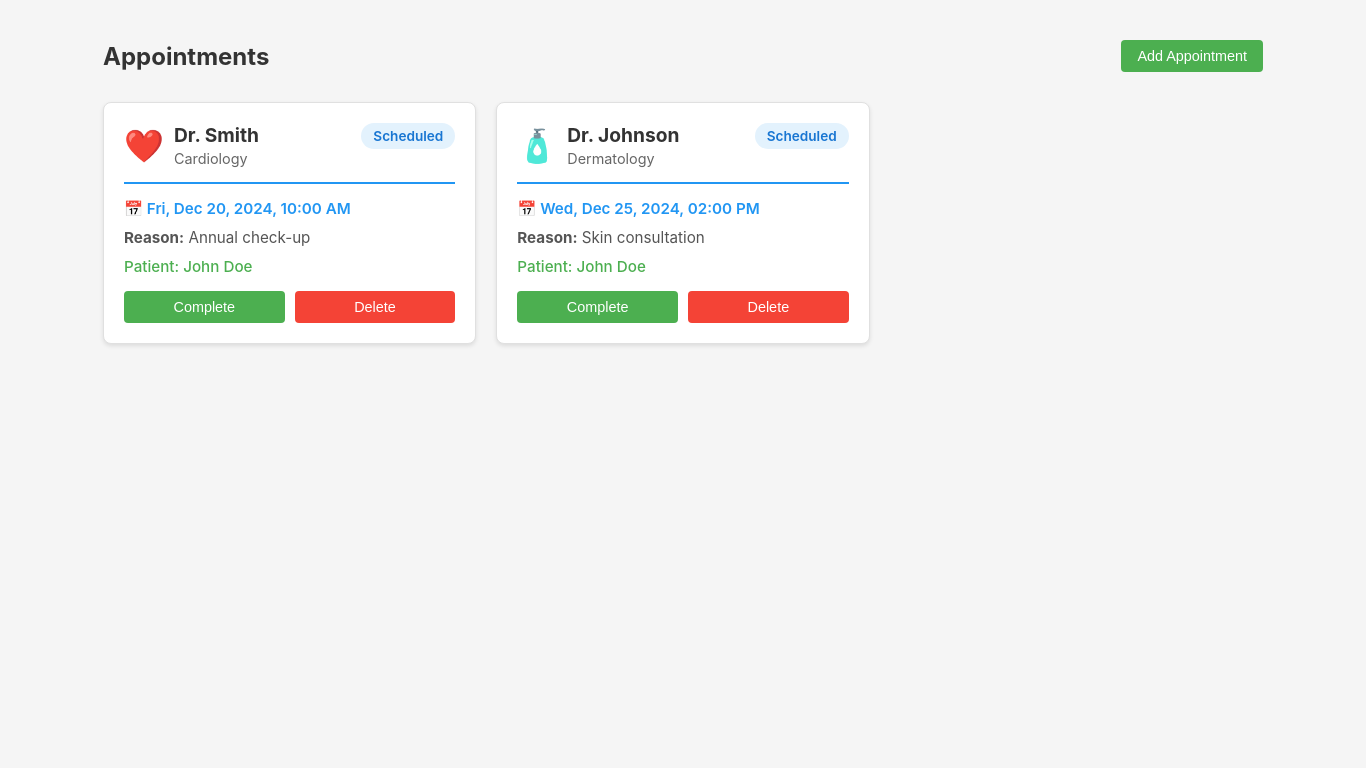
AppointmentsPage Component › should cancel form and return to list
expect the heading "Dr. Smith" is shown: met, box [174, 123, 259, 147]
Click the button "Add Appointment" at coordinates (1192, 56), box [1121, 40, 1263, 72]
(page scrolled)
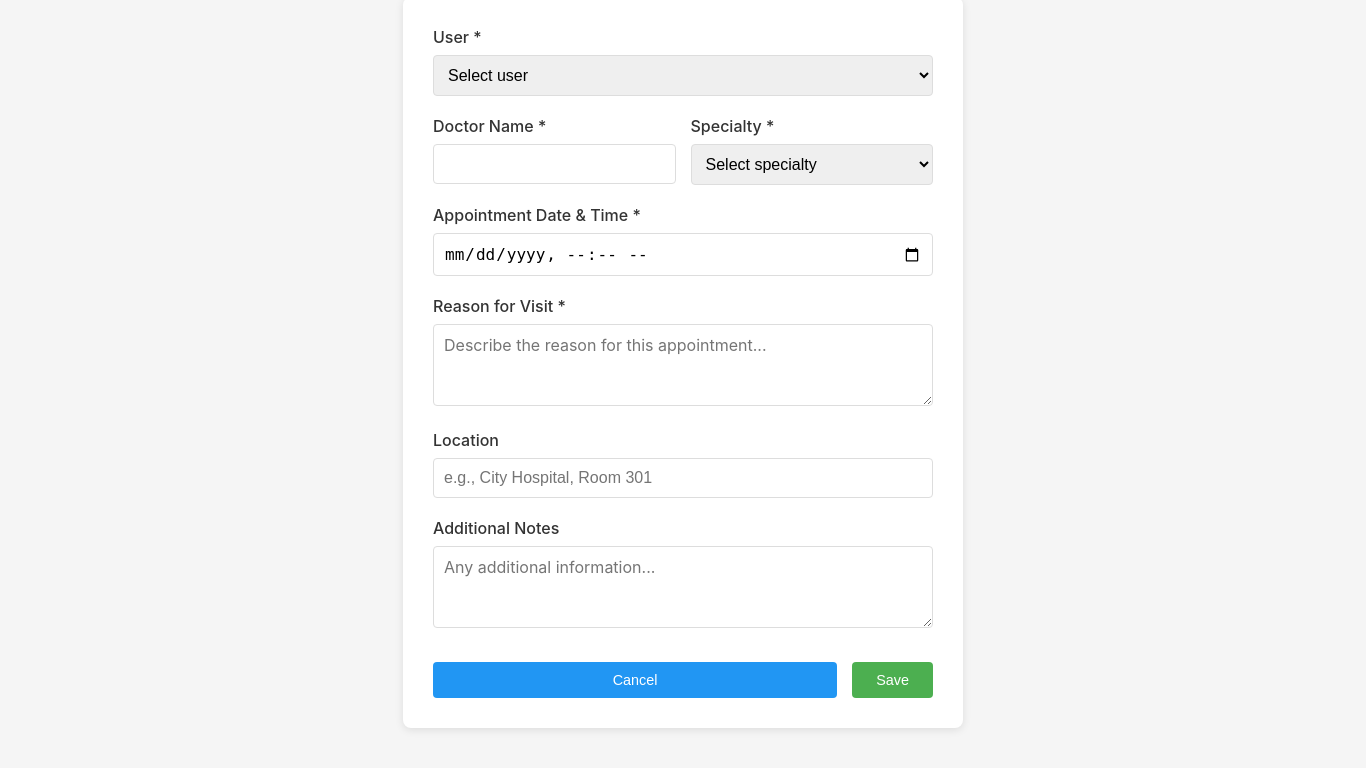
expect the dropdown labelled "User *" is shown: met, box [433, 55, 933, 96]
Click the button "Cancel" at coordinates (635, 680), box [433, 662, 837, 698]
(page scrolled)
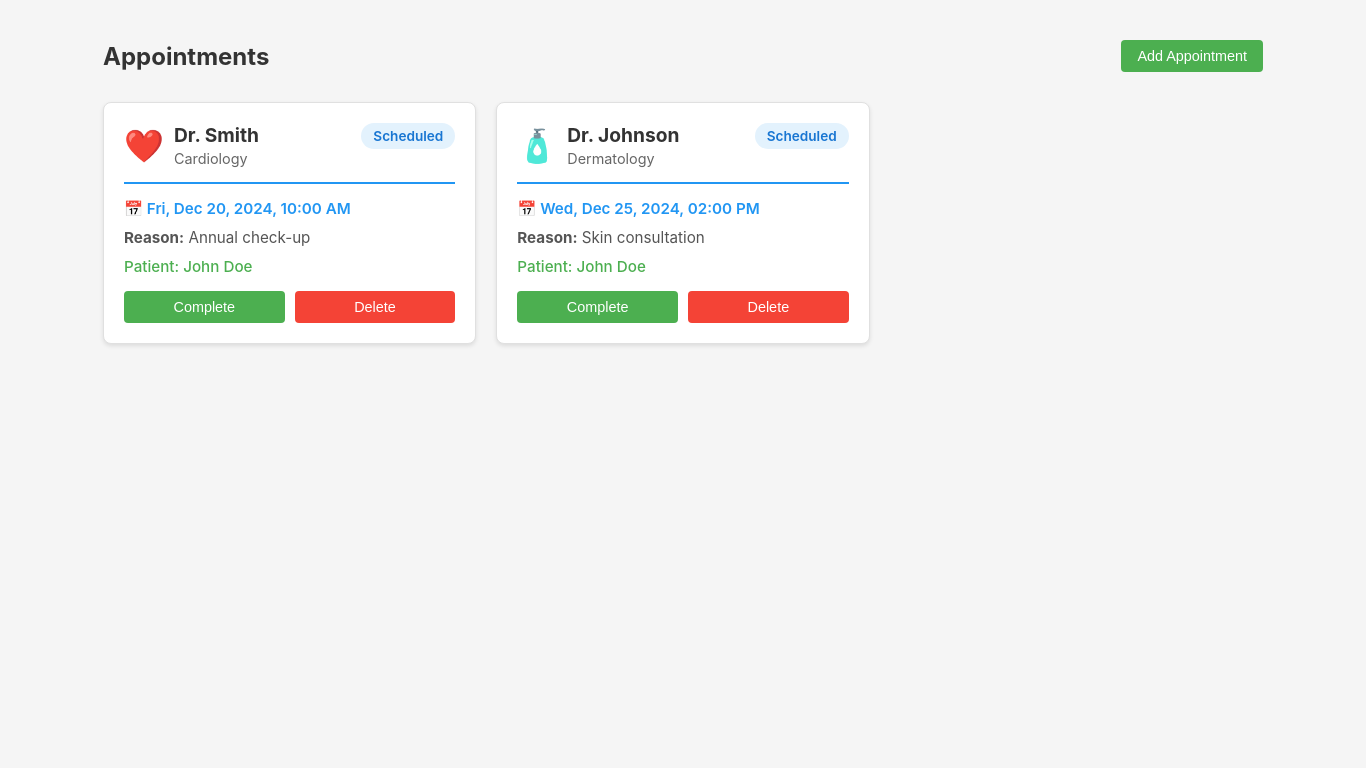
expect the heading "Dr. Smith" is shown: met, box [174, 123, 259, 147]
